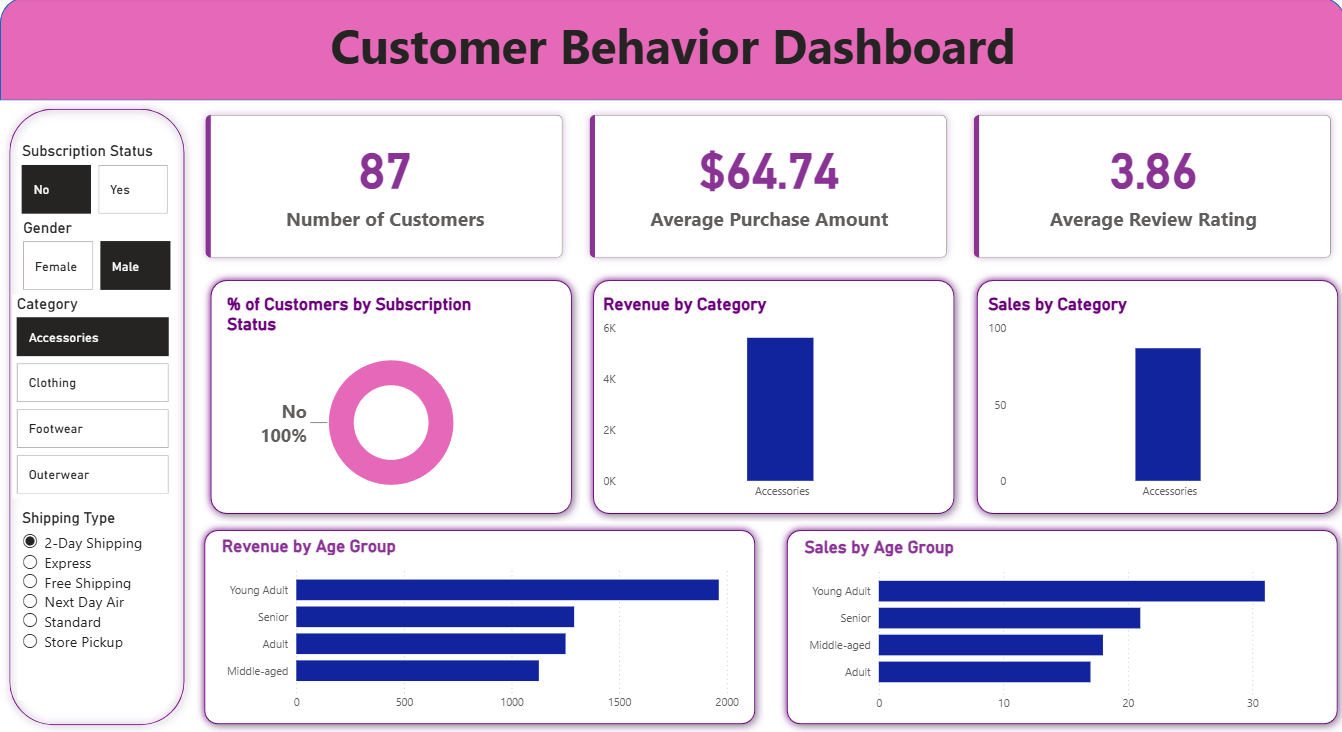

What the dashboard file says about the page in this screenshot:
{"tool":"powerbi","page":{"name":"Page 1","canvas":[1500,820],"ordinal":0},"visuals":[{"type":"cardVisual","fields":{"Data":["public customer.Number of Customers","public customer.Average Purchase Amount","public customer.Average Review Rating"]},"box":[212.9,115.3,1286.5,191.6],"z":2000},{"type":"shape","box":[218.3,585.6,631.7,234.2],"z":2500,"group":"g1"},{"type":"shape","box":[0,0,1499.4,115.3],"z":3000},{"type":"textbox","box":[0,12.4,1499.4,102.9],"z":4000},{"type":"shape","box":[225.4,307,420.5,278.6],"z":5000},{"type":"donutChart","title":"% of Customers by Subscription Status","fields":{"Category":["public customer.subscription_status"],"Y":["CountNonNull(public customer.customer_id)"]},"box":[248.4,331.8,376.2,237.8],"z":6000},{"type":"shape","box":[1078.9,307,420.5,278.6],"z":7000},{"type":"shape","box":[652.1,307,420.5,278.6],"z":8000},{"type":"clusteredColumnChart","title":"Revenue by Category","fields":{"Y":["Sum(public customer.purchase_amount)"],"Category":["public customer.category"]},"box":[667.2,331.8,385.1,237.8],"z":9000},{"type":"clusteredColumnChart","title":"Sales by Category","fields":{"Y":["CountNonNull(public customer.customer_id)"],"Category":["public customer.category"]},"box":[1096.6,331.8,385.1,237.8],"z":10000},{"type":"shape","box":[1.4,115.6,213.1,704.7],"z":11000},{"type":"advancedSlicerVisual","fields":{"Values":["public customer.subscription_status"]},"box":[19.5,161.5,173.9,85.2],"z":12000},{"type":"advancedSlicerVisual","fields":{"Values":["public customer.gender"]},"box":[20.9,246.5,174.1,85],"z":13000},{"type":"advancedSlicerVisual","fields":{"Values":["public customer.category"]},"box":[13.9,331.5,179.7,227],"z":14000},{"type":"listSlicer","fields":{"Values":["public customer.shipping_type"]},"box":[19.3,569.3,173.7,213.9],"z":15000},{"type":"shape","box":[867.7,585.6,631.7,234.2],"z":16000},{"type":"clusteredBarChart","title":"Sales by Age Group","fields":{"Y":["CountNonNull(public customer.customer_id)"],"Category":["public customer.age_group"]},"box":[890.8,601.5,585.6,204.1],"z":17000},{"type":"clusteredBarChart","title":"Revenue by Age Group","fields":{"Y":["Sum(public customer.purchase_amount)"],"Category":["public customer.age_group"]},"box":[241.4,601.6,585.6,204.1],"z":17500,"group":"g1"},{"type":"group","id":"g1","title":"Group 1","box":[218.3,585.6,631.7,234.2],"z":17501}]}

Visuals, with their boxes in screenshot pixels (x1, y1, x2, y2), scaled from the page's 1500x820 canvas onto the 1342x732 screenshot:
cardVisual - public customer.Number of Customers x public customer.Average Purchase Amount: {"x1": 190, "y1": 103, "x2": 1341, "y2": 274}
shape: {"x1": 195, "y1": 523, "x2": 760, "y2": 731}
shape: {"x1": 0, "y1": 0, "x2": 1341, "y2": 103}
textbox: {"x1": 0, "y1": 11, "x2": 1341, "y2": 103}
shape: {"x1": 202, "y1": 274, "x2": 578, "y2": 523}
"% of Customers by Subscription Status" donutChart: {"x1": 222, "y1": 296, "x2": 559, "y2": 508}
shape: {"x1": 965, "y1": 274, "x2": 1341, "y2": 523}
shape: {"x1": 583, "y1": 274, "x2": 960, "y2": 523}
"Revenue by Category" clusteredColumnChart: {"x1": 597, "y1": 296, "x2": 941, "y2": 508}
"Sales by Category" clusteredColumnChart: {"x1": 981, "y1": 296, "x2": 1326, "y2": 508}
shape: {"x1": 1, "y1": 103, "x2": 192, "y2": 731}
advancedSlicerVisual - public customer.subscription_status: {"x1": 17, "y1": 144, "x2": 173, "y2": 220}
advancedSlicerVisual - public customer.gender: {"x1": 19, "y1": 220, "x2": 174, "y2": 296}
advancedSlicerVisual - public customer.category: {"x1": 12, "y1": 296, "x2": 173, "y2": 499}
listSlicer - public customer.shipping_type: {"x1": 17, "y1": 508, "x2": 173, "y2": 699}
shape: {"x1": 776, "y1": 523, "x2": 1341, "y2": 731}
"Sales by Age Group" clusteredBarChart: {"x1": 797, "y1": 537, "x2": 1321, "y2": 719}
"Revenue by Age Group" clusteredBarChart: {"x1": 216, "y1": 537, "x2": 740, "y2": 719}
"Group 1" group: {"x1": 195, "y1": 523, "x2": 760, "y2": 731}
